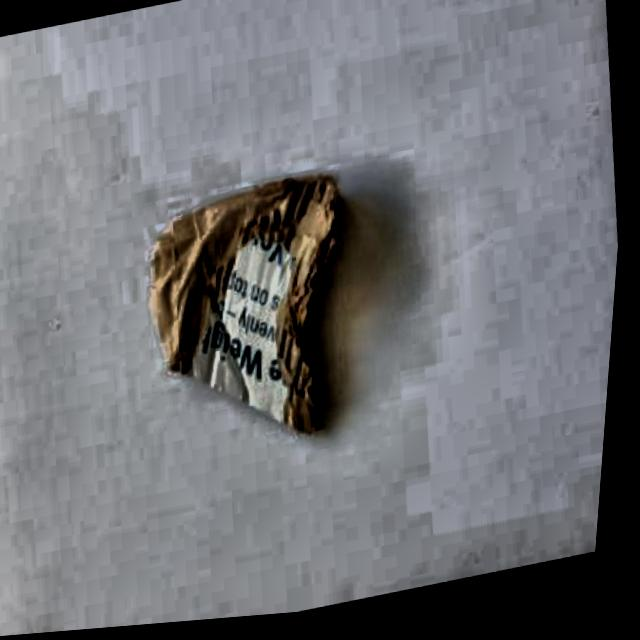Cardbox: (79, 86, 474, 508)
